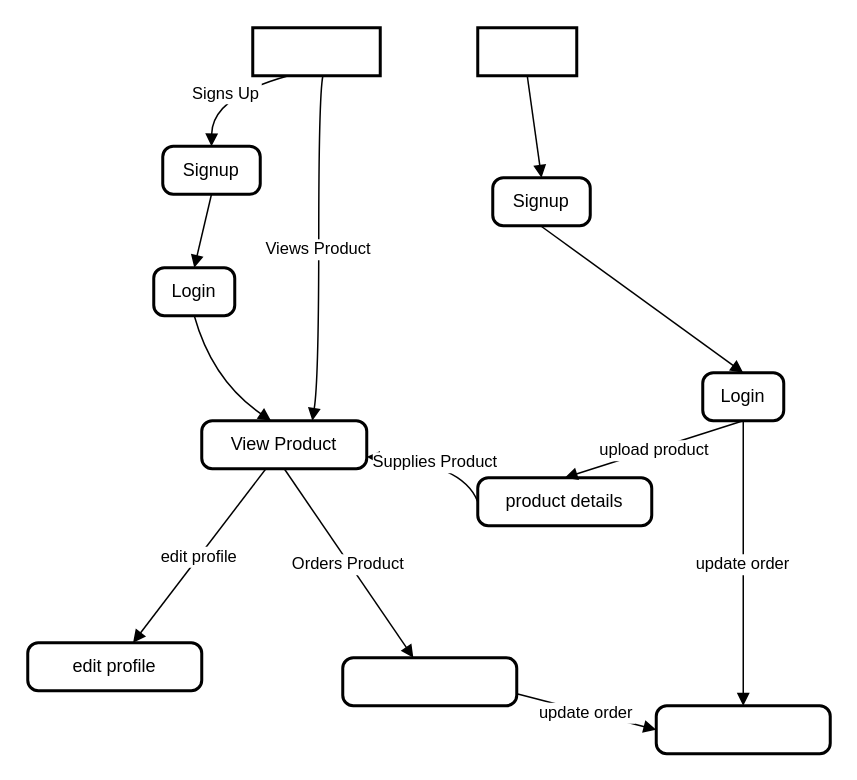
Image size: 857x780. Some labels were removed from this diagram. Here are the shapes that lost their labels. From the top down, the box of each, then its label:
(250, 26, 381, 76): Customer
(476, 26, 578, 76): Vendor
(340, 656, 518, 706): Order Product
(654, 704, 831, 754): Manage order
